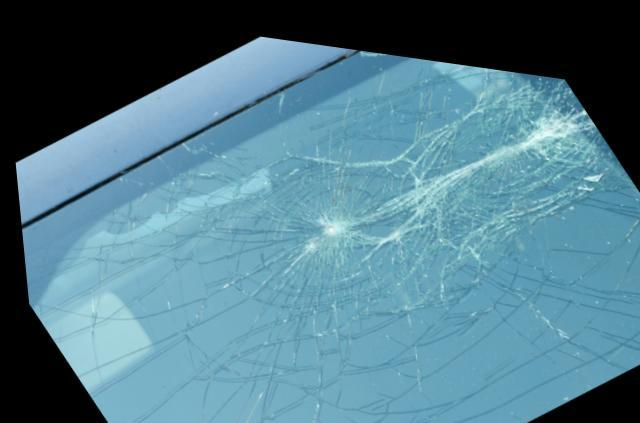glass shatter: (17, 40, 640, 423)
